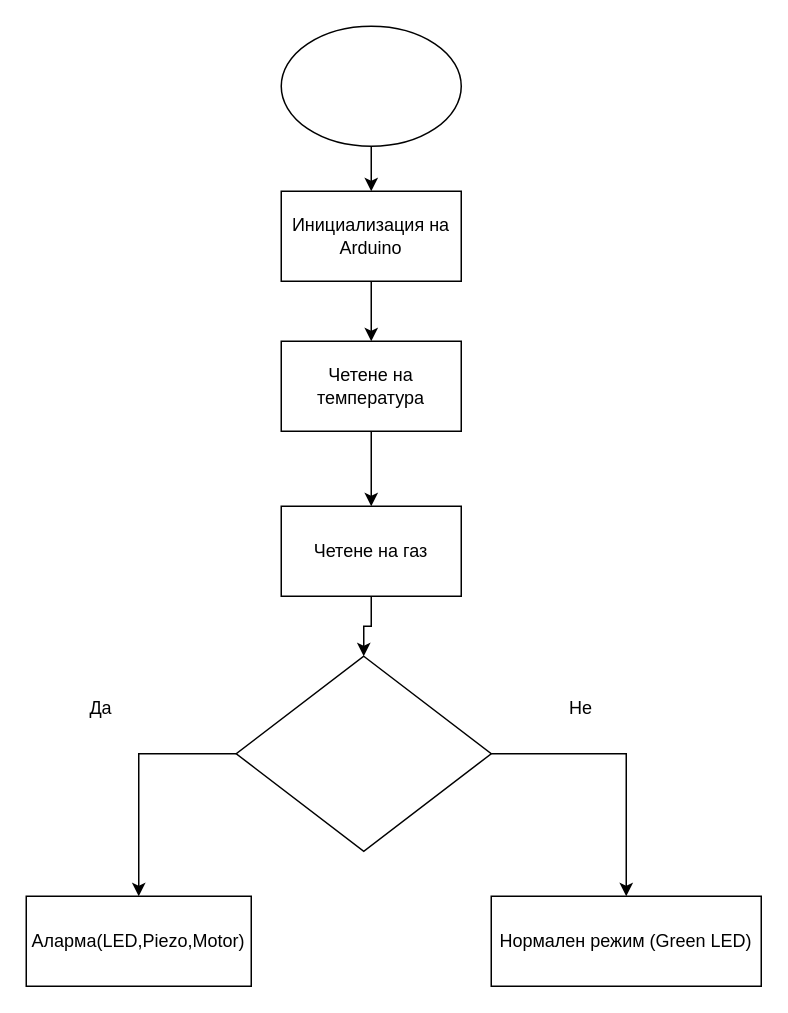
The diagram is 788 pixels wide and 1013 high, and some of its shapes have lost their labels. The shapes that lost their labels are listed below. From the top down, each one's centre as x and y in pixels, then its label:
the point at 370,85: Старт
the point at 363,753: Газ >=250? или температура>=60?
